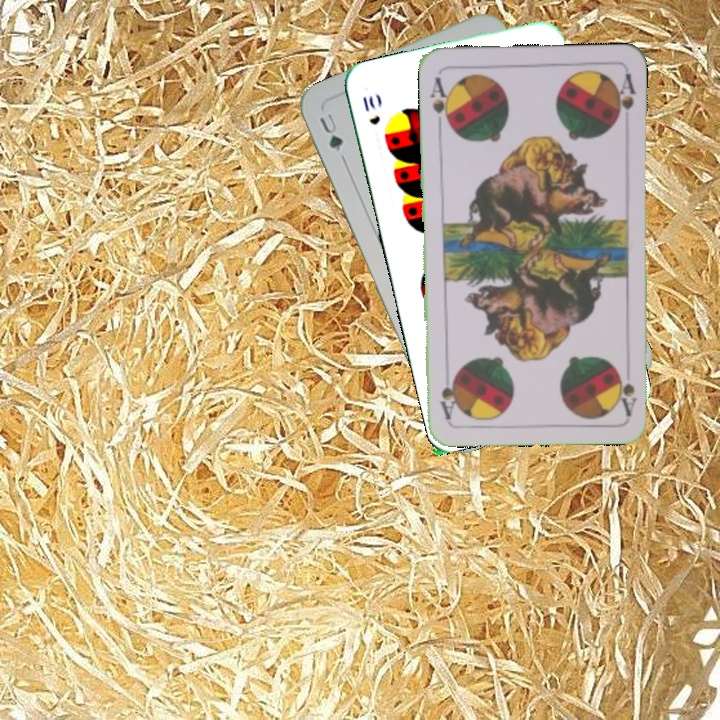GU: (315, 109, 346, 154)
S10: (358, 91, 383, 128)
SA: (426, 73, 453, 130), (616, 359, 639, 418)
